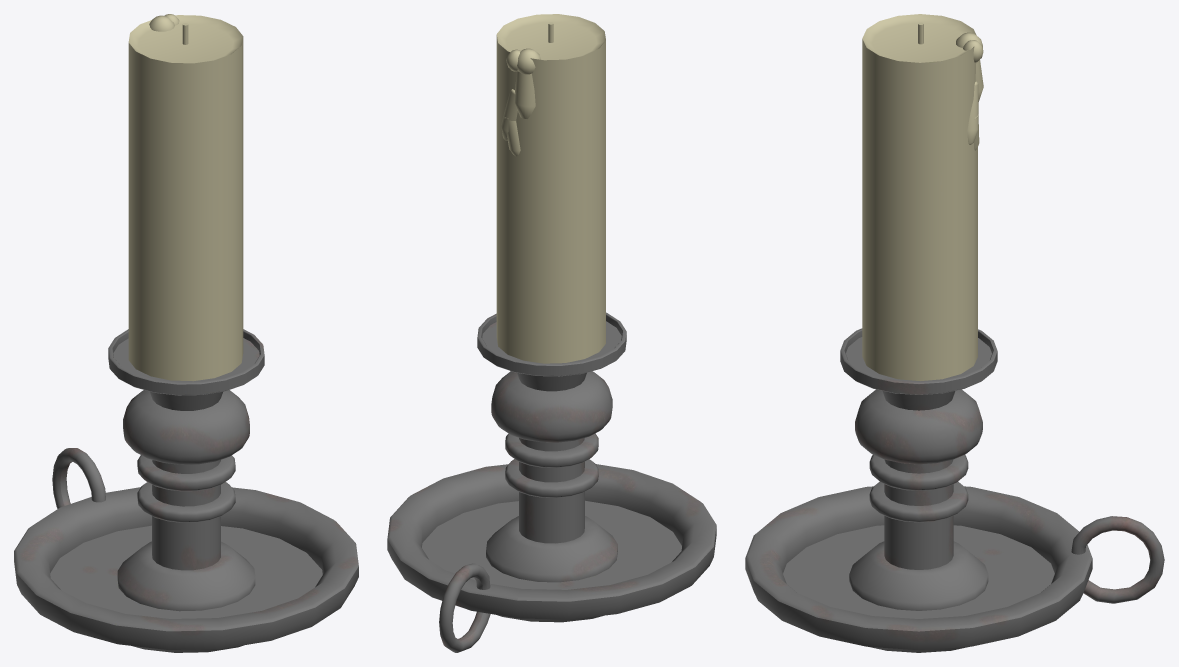
Rendered from candle.gltf.
The picture shows the model from 3 angles, left to right: view 1: azimuth 30°, elevation 25°; view 2: azimuth 150°, elevation 25°; view 3: azimuth 270°, elevation 25°; orthographic projection. The views are drawn at different scales.
Parts seen in each view (by area): view 1: pCylinder2, pCylinder1, pCylinder3; view 2: pCylinder2, pCylinder1, pCylinder3, pCylinder5; view 3: pCylinder2, pCylinder1, pCylinder3.
Part boxes in pixels (x1=…): pCylinder2: x1=14, y1=329, x2=358, y2=652; pCylinder1: x1=128, y1=15, x2=243, y2=381; pCylinder3: x1=52, y1=448, x2=105, y2=508; pCylinder2: x1=387, y1=312, x2=716, y2=622; pCylinder1: x1=496, y1=14, x2=605, y2=363; pCylinder3: x1=439, y1=563, x2=490, y2=652; pCylinder5: x1=514, y1=71, x2=535, y2=118; pCylinder2: x1=745, y1=328, x2=1092, y2=652; pCylinder1: x1=862, y1=14, x2=977, y2=380; pCylinder3: x1=1071, y1=516, x2=1164, y2=603.
Bounding box in the file's own units: 1.08 × 2 × 1.3.
Materials: 1 (1 with a texture image).
